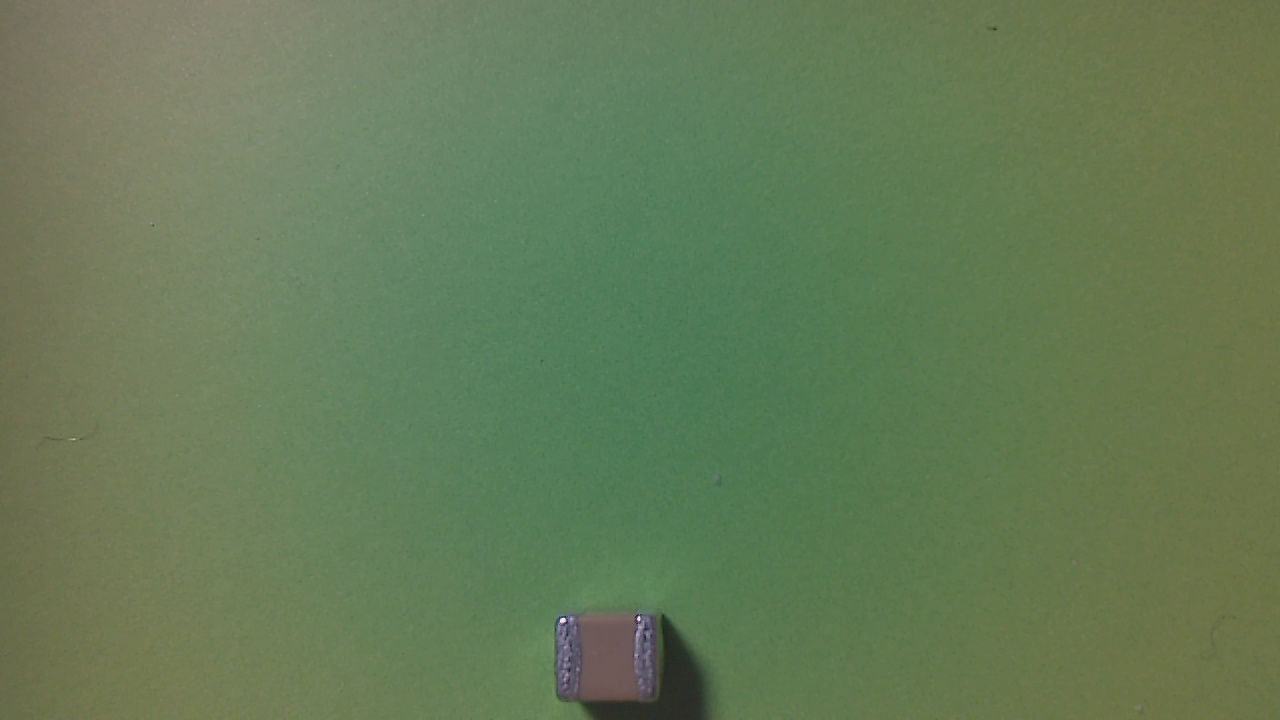Condensator: (558, 613, 665, 708)
